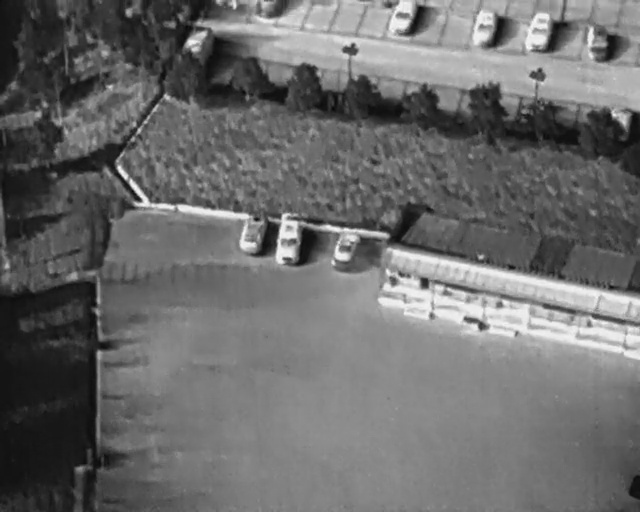Car: (521, 9, 558, 56), (272, 217, 303, 269), (329, 228, 364, 274), (237, 213, 270, 257), (468, 6, 500, 49), (586, 21, 609, 63), (391, 0, 417, 34)
